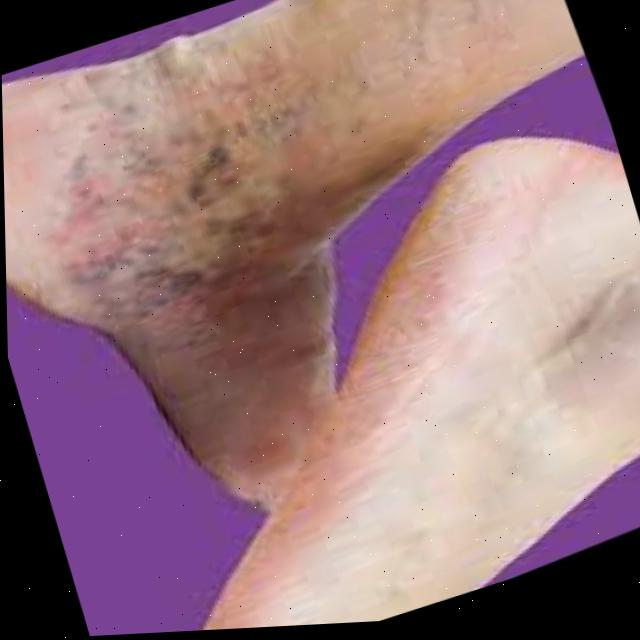Eczema: (46, 5, 463, 459)
